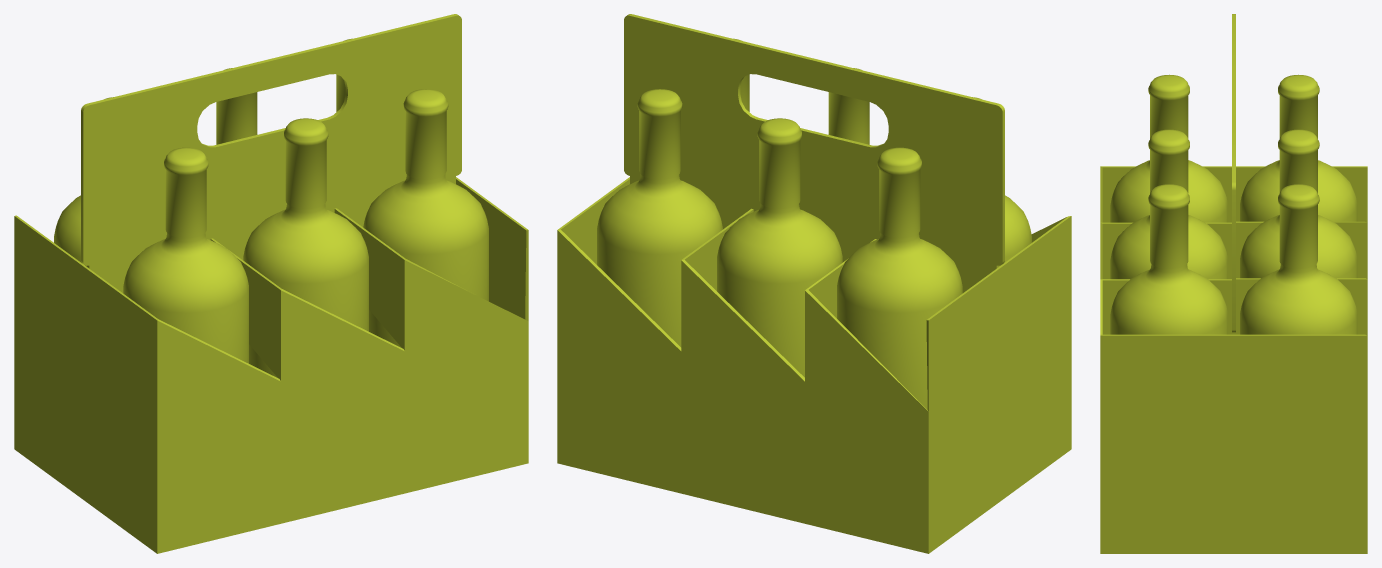
The model's file is Winebox.fbx.
3 views of the same model, side by side, from view 1: azimuth 30°, elevation 25°; view 2: azimuth 150°, elevation 25°; view 3: azimuth 270°, elevation 25° (orthographic). The views are drawn at different scales.
Parts seen in each view (by area): view 1: Winebox_1; view 2: Winebox_1; view 3: Winebox_1.
Boxes of the visible parts, left/top/right/bottom form: Winebox_1: left=14, top=14, right=528, bottom=553; Winebox_1: left=557, top=14, right=1071, bottom=553; Winebox_1: left=1100, top=14, right=1367, bottom=553.
Bounding box in the file's own units: 34.77 × 34.78 × 22.71.
